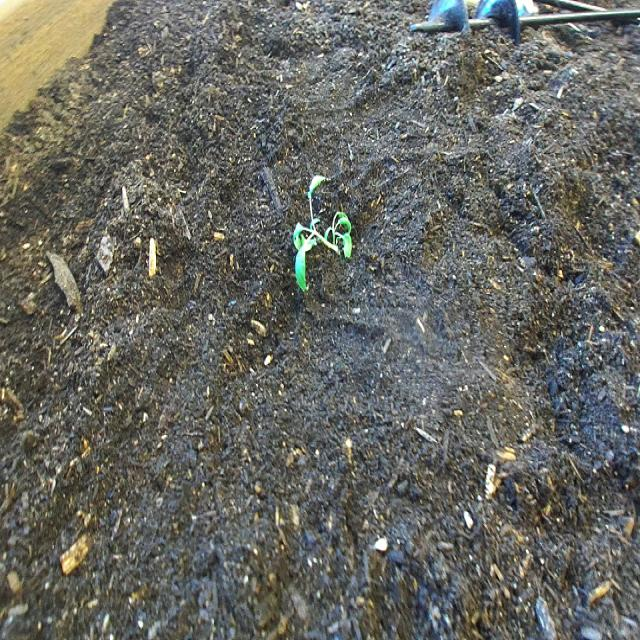Healthy: (286, 154, 364, 306)
